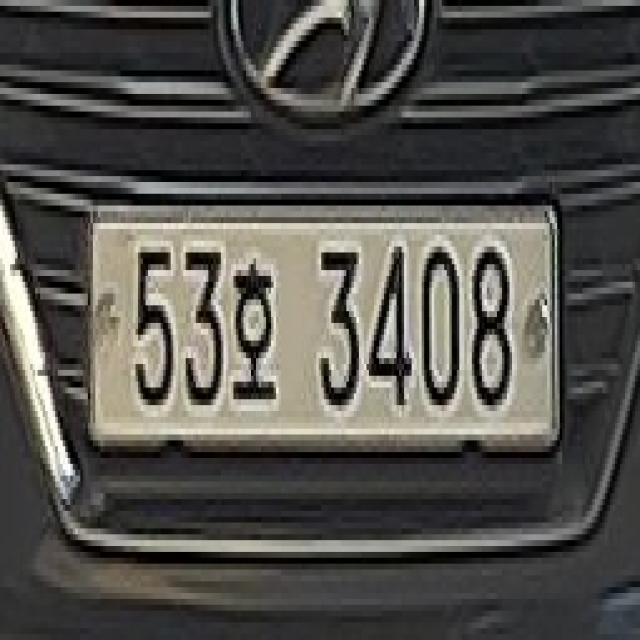0: (418, 243, 464, 416)
3: (314, 236, 364, 424), (183, 236, 226, 408)
4: (366, 237, 416, 429)
5: (130, 234, 178, 419)
8: (466, 242, 516, 419)
ho: (231, 251, 280, 422)
license_plate: (80, 191, 566, 462)
